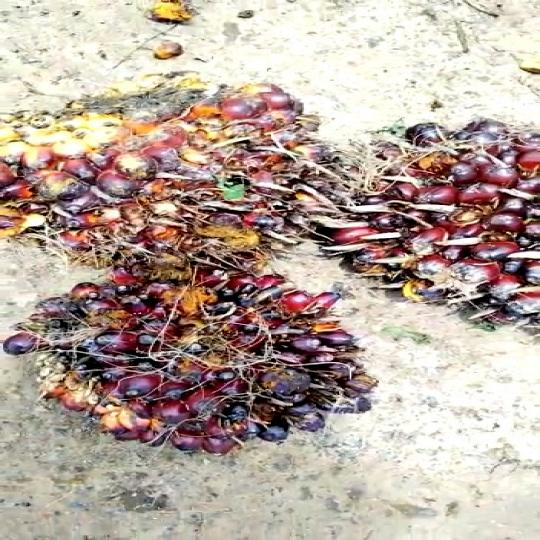masak: (0, 265, 399, 451), (0, 81, 361, 284), (296, 99, 540, 340)
